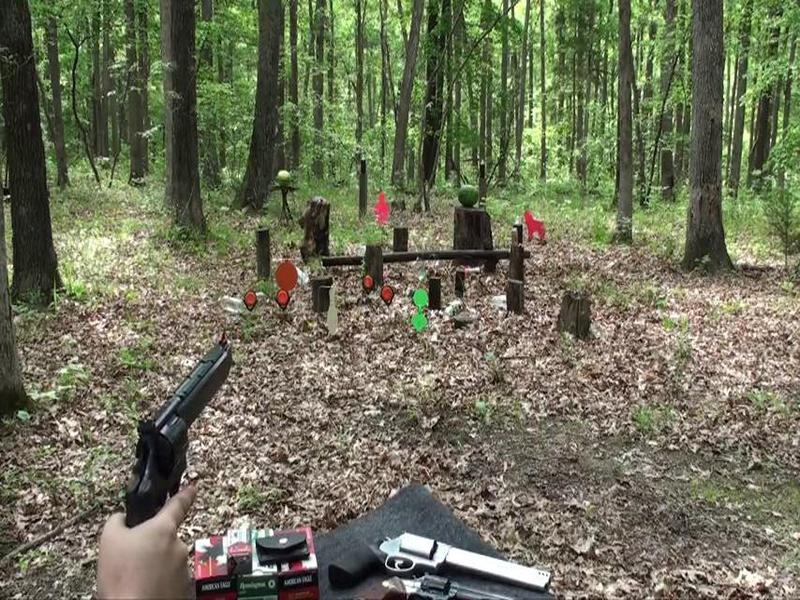Revolver: (121, 334, 257, 544)
